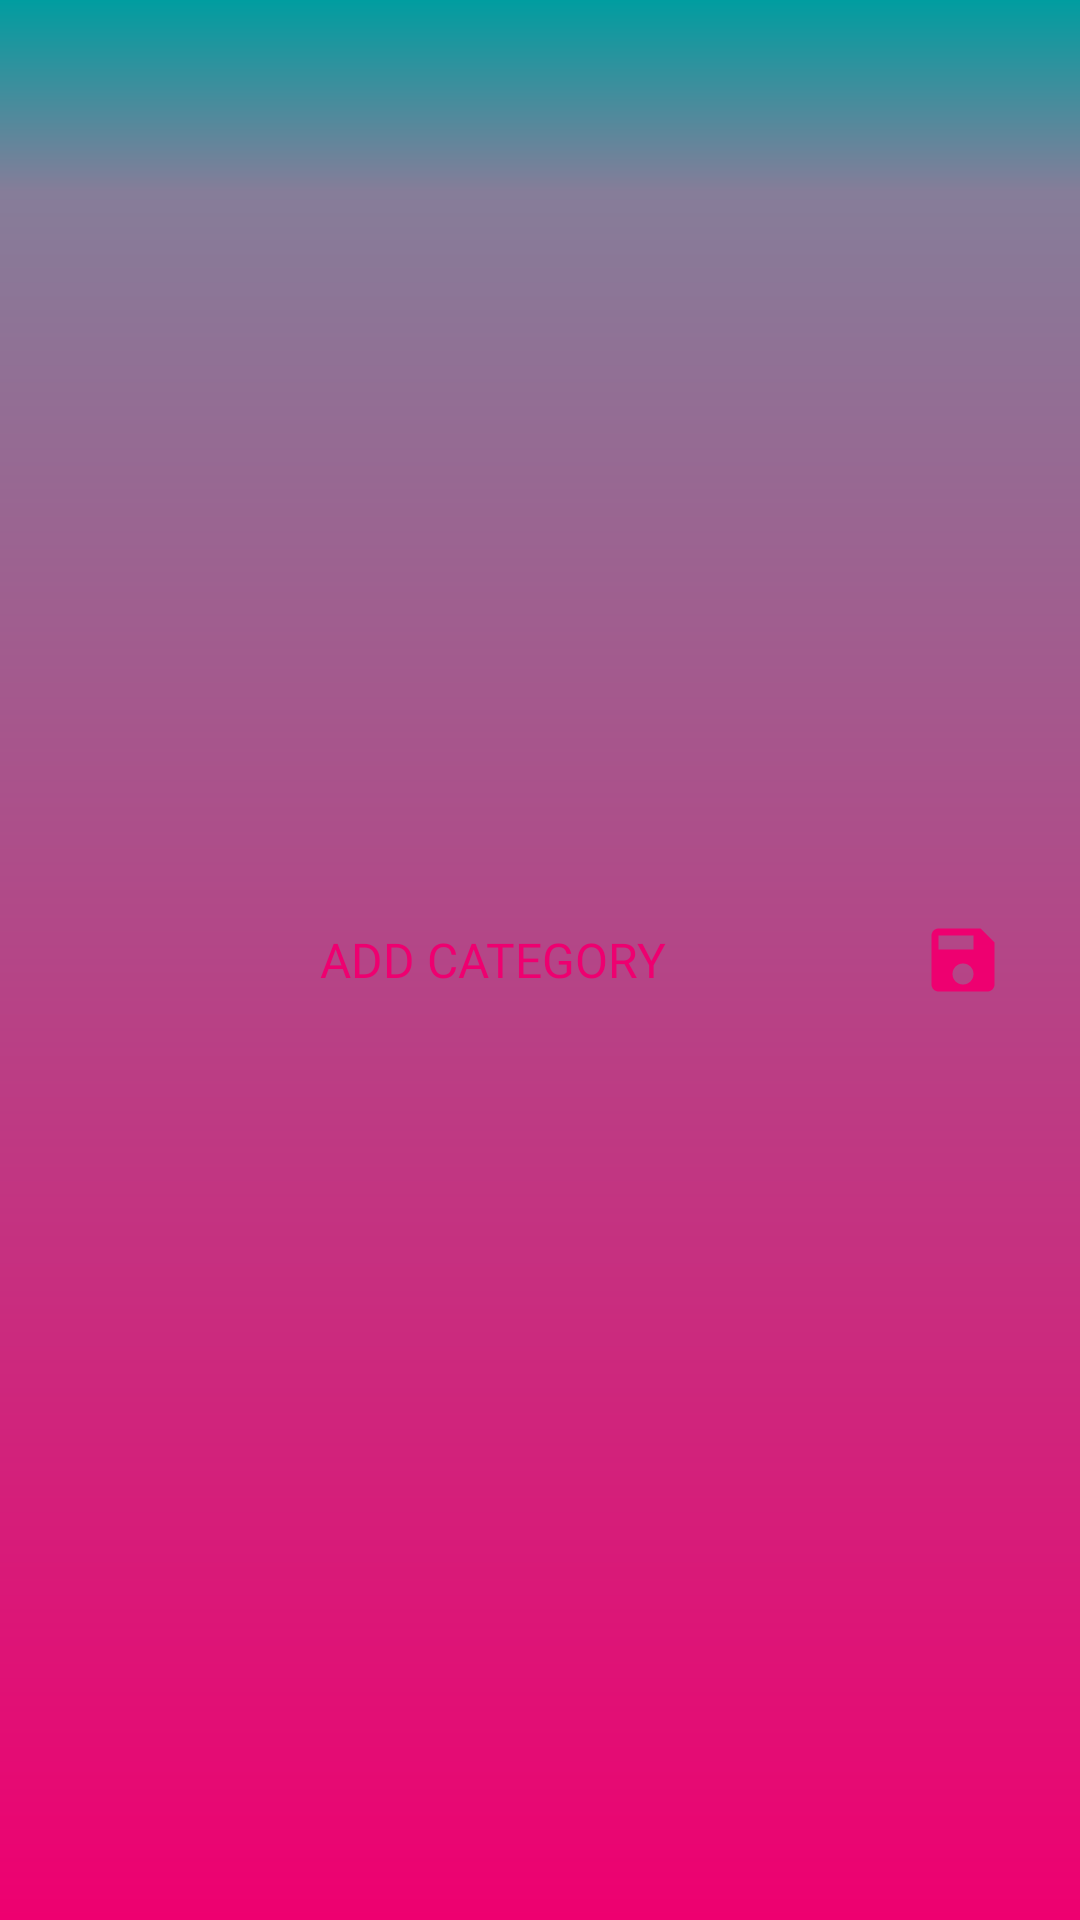

Named icons in this screenshot (1080×1920) and their bounding boxes, box=[x1, y1, x2, y2]:
save: box=[931, 928, 995, 992]
